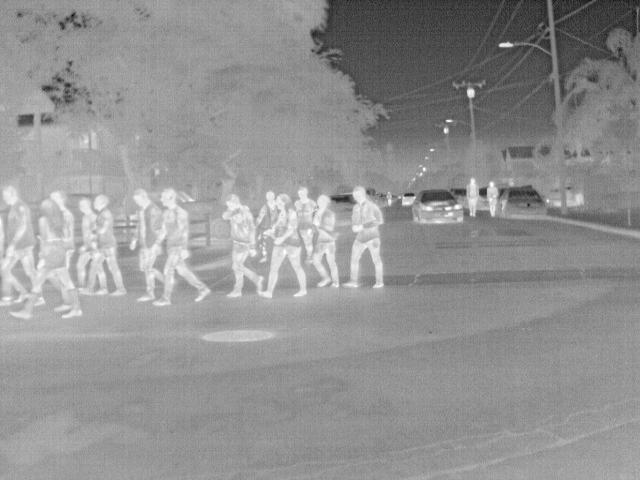car: (411, 189, 464, 224), (501, 188, 551, 220), (402, 192, 418, 206)
person: (14, 198, 84, 322), (150, 188, 214, 308), (256, 192, 309, 298), (80, 194, 128, 300), (341, 188, 387, 290), (131, 185, 170, 302), (1, 184, 39, 304), (220, 196, 263, 296), (310, 197, 342, 287), (46, 186, 76, 264), (75, 195, 96, 289), (293, 184, 315, 257), (249, 188, 278, 232), (466, 178, 482, 220), (487, 178, 501, 219), (386, 190, 394, 207)
